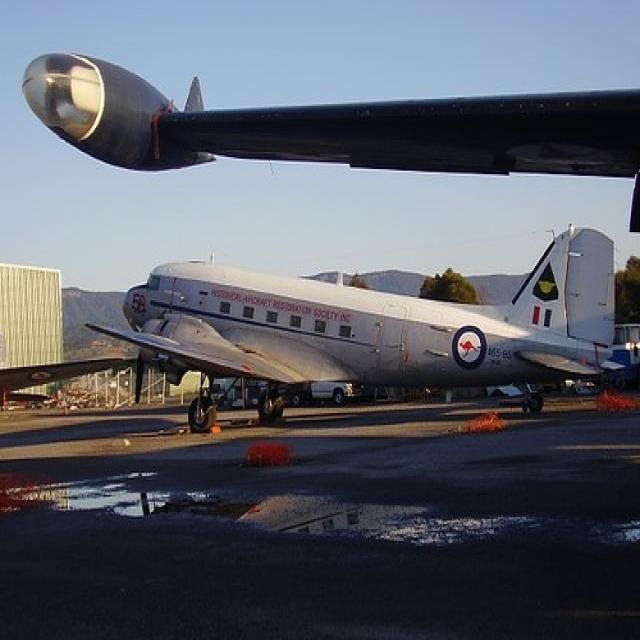aeroplane: (79, 220, 622, 430)
